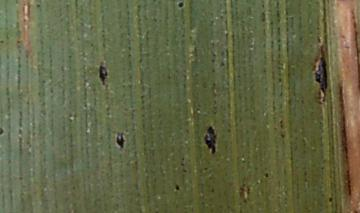tarspot: (311, 46, 329, 103), (202, 124, 218, 156), (97, 62, 109, 86), (238, 181, 251, 202), (114, 130, 126, 150), (259, 10, 266, 23), (175, 1, 185, 9), (315, 34, 322, 45), (218, 49, 227, 57), (173, 183, 181, 191), (201, 165, 209, 173), (81, 102, 89, 110), (137, 56, 145, 64), (298, 35, 305, 44), (269, 38, 275, 48), (275, 26, 281, 36), (279, 131, 286, 139), (218, 60, 225, 68), (16, 127, 23, 135), (39, 78, 47, 85), (223, 30, 230, 38), (139, 94, 145, 103), (327, 196, 334, 203), (262, 171, 269, 178), (34, 2, 41, 9), (178, 160, 185, 167), (209, 57, 216, 64), (67, 117, 74, 124), (211, 89, 218, 96), (104, 104, 111, 111), (6, 157, 12, 165), (276, 76, 282, 84), (211, 80, 217, 88), (1, 126, 5, 137), (180, 167, 187, 173), (17, 175, 24, 181), (15, 38, 21, 45), (299, 98, 305, 105), (151, 16, 157, 23), (126, 44, 132, 51), (226, 127, 232, 134), (303, 176, 308, 184), (210, 67, 216, 73), (302, 169, 308, 175), (67, 112, 73, 118), (72, 113, 78, 119), (70, 184, 76, 190), (88, 41, 94, 47), (127, 52, 133, 58), (105, 111, 111, 117), (66, 53, 72, 59), (211, 109, 217, 115), (212, 104, 218, 110), (315, 25, 321, 31), (277, 118, 284, 123), (209, 186, 214, 193), (180, 31, 185, 38), (1, 38, 5, 46), (279, 123, 285, 128), (219, 14, 224, 20), (276, 37, 281, 43), (212, 99, 217, 105)
